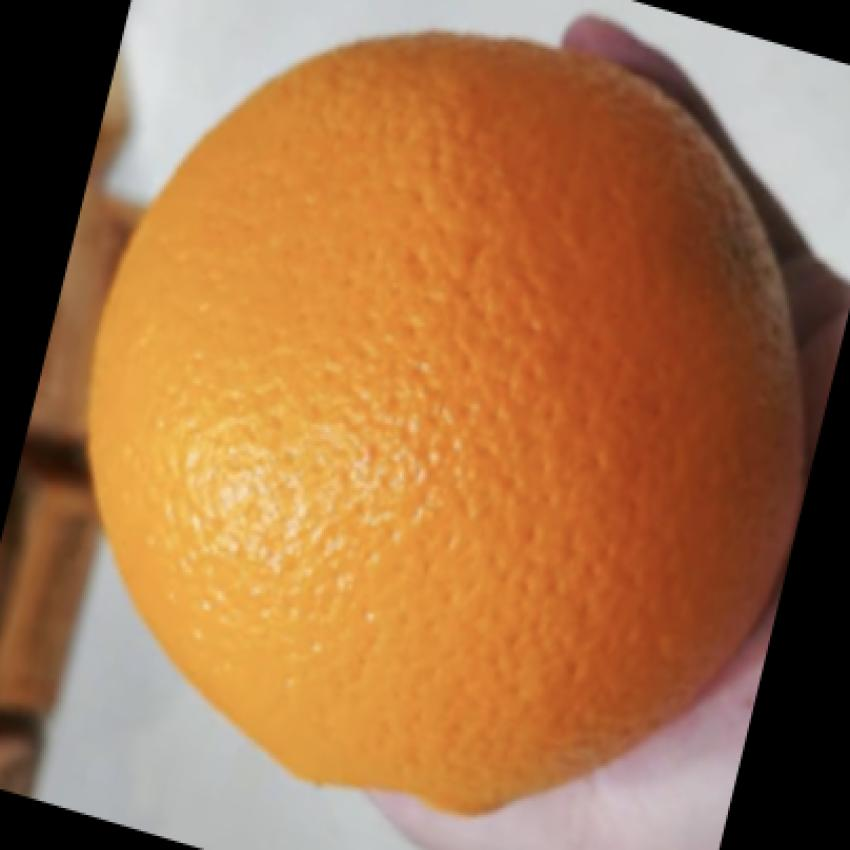Buen estado: (81, 13, 819, 817)
